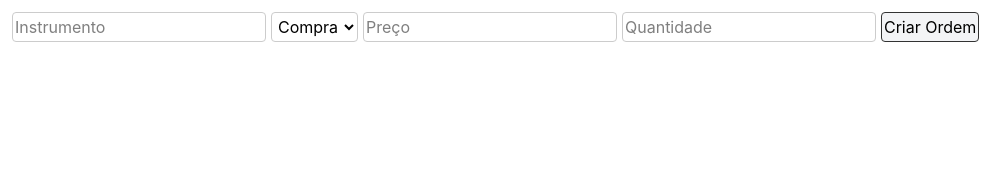
Test: OrderForm › formata o preço corretamente
The width and height of the screenshot is (996, 172).
Type "2550" into the field with placeholder "Preço". click: [490, 27]
box: [363,12,617,42]
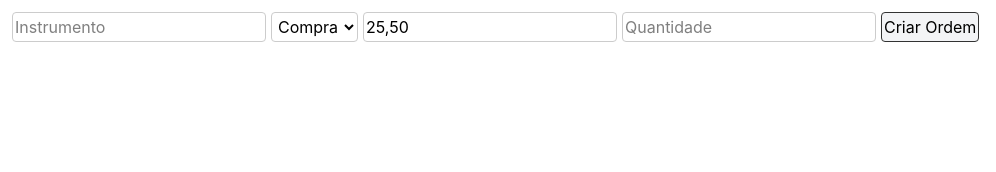
Check: the field with placeholder "Preço" holds "25,50", box [363,12,617,42]
